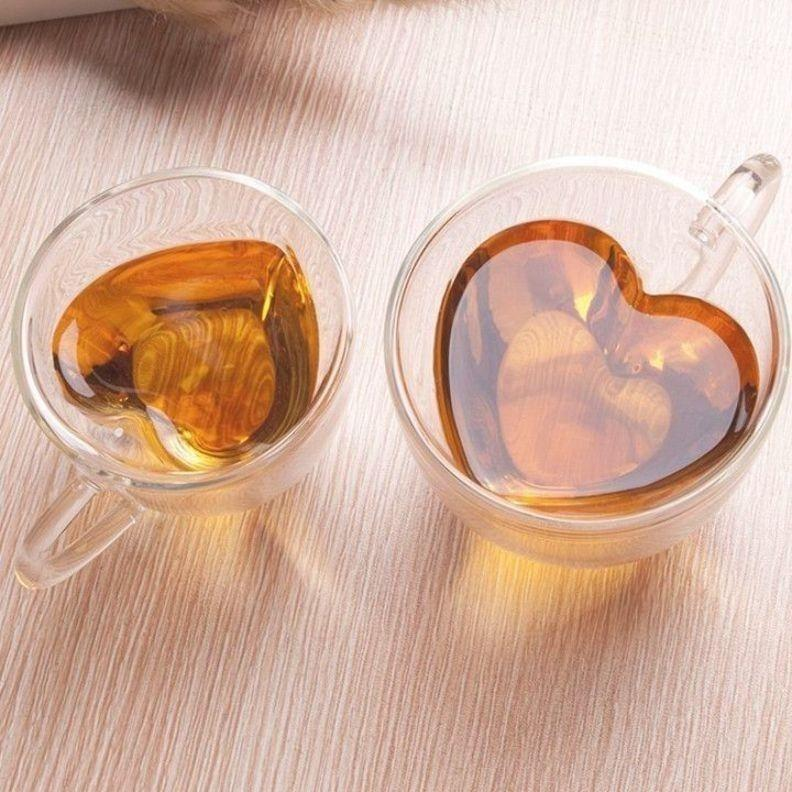glass-mug: (372, 144, 792, 572), (1, 165, 349, 612)
